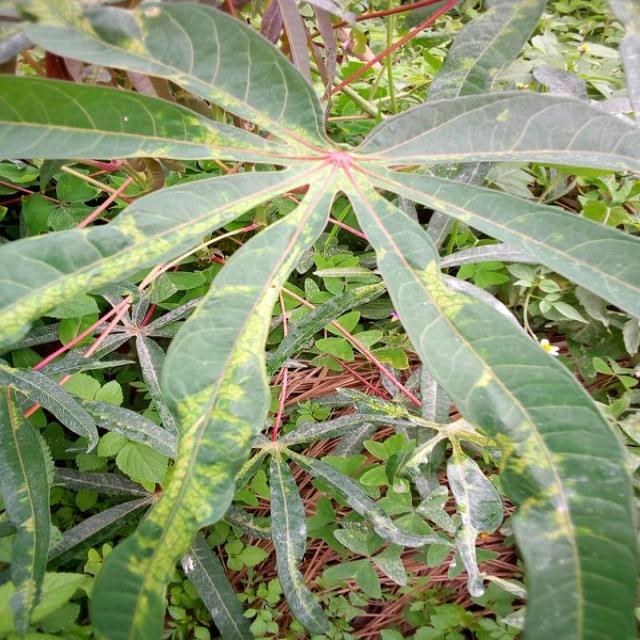cassava leaf: (1, 0, 638, 638), (341, 162, 638, 638)
